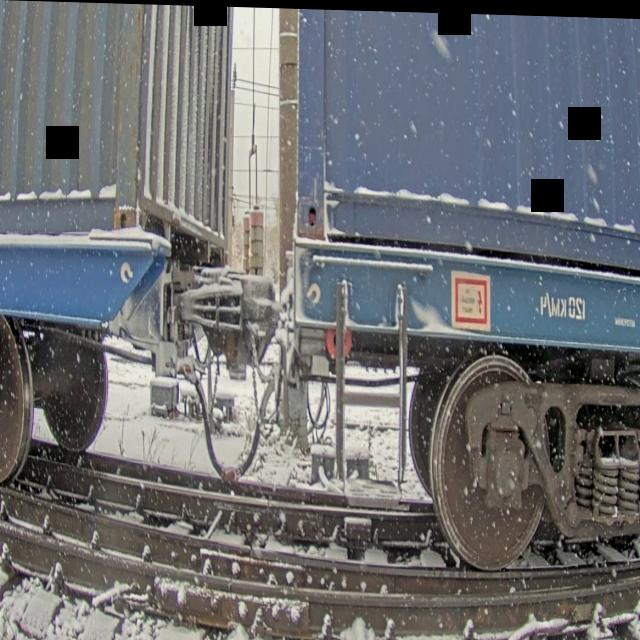container: (290, 7, 640, 280), (0, 0, 237, 271)
flatcar: (288, 233, 640, 582), (0, 225, 212, 502)
